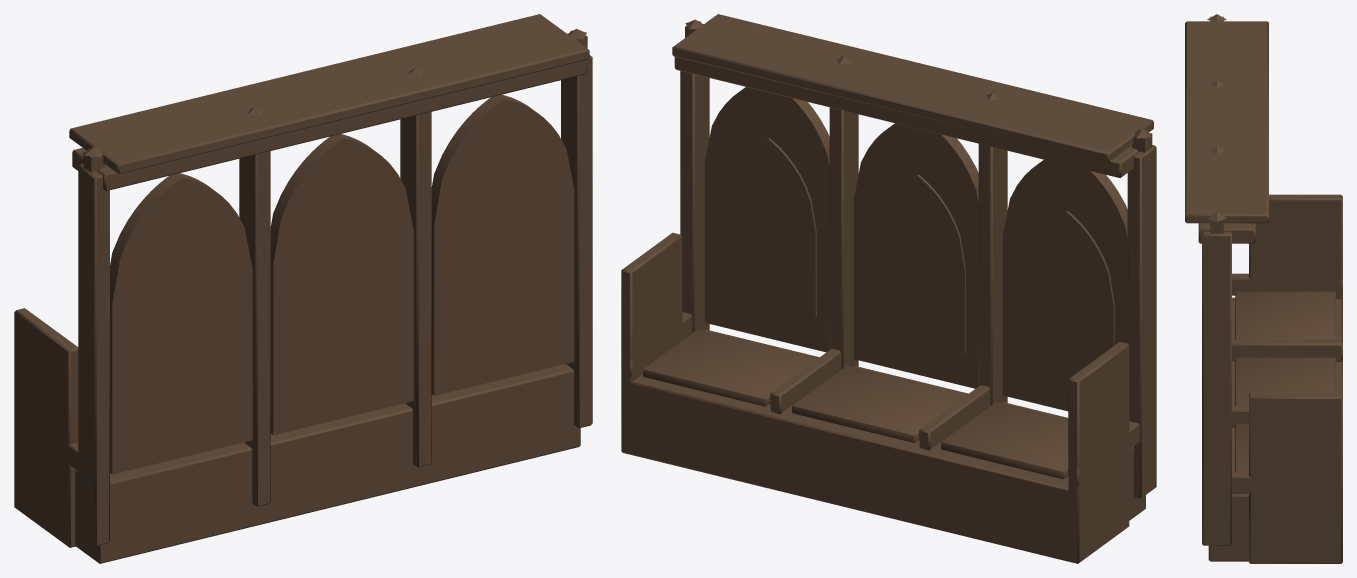
File: chi_stallo.fbx
3 renders of one model, left to right at view 1: azimuth 30°, elevation 25°; view 2: azimuth 150°, elevation 25°; view 3: azimuth 270°, elevation 25°, orthographic. The views are drawn at different scales.
Parts seen in each view (by area): view 1: chi_stallo_legno; view 2: chi_stallo_legno; view 3: chi_stallo_legno.
Part boxes in pixels (x1,y1,x2,y2): chi_stallo_legno: (14,14,592,563); chi_stallo_legno: (621,14,1156,563); chi_stallo_legno: (1185,14,1342,563).
Bounding box in the file's own units: 2.92 × 2.3 × 0.94.
